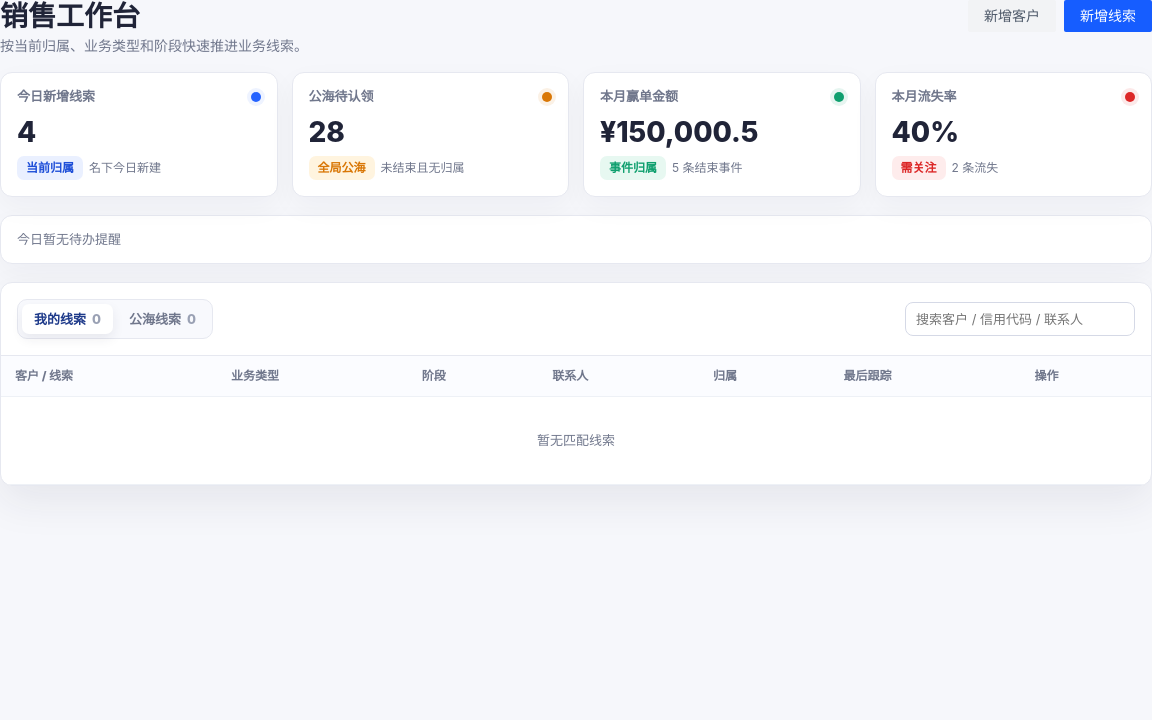
Test: refine lead list iteration › 新增线索入口打开统一新建线索弹窗
The image size is (1152, 720).
Click the button "新增线索": (1108, 16) [1064,0,1151,32]
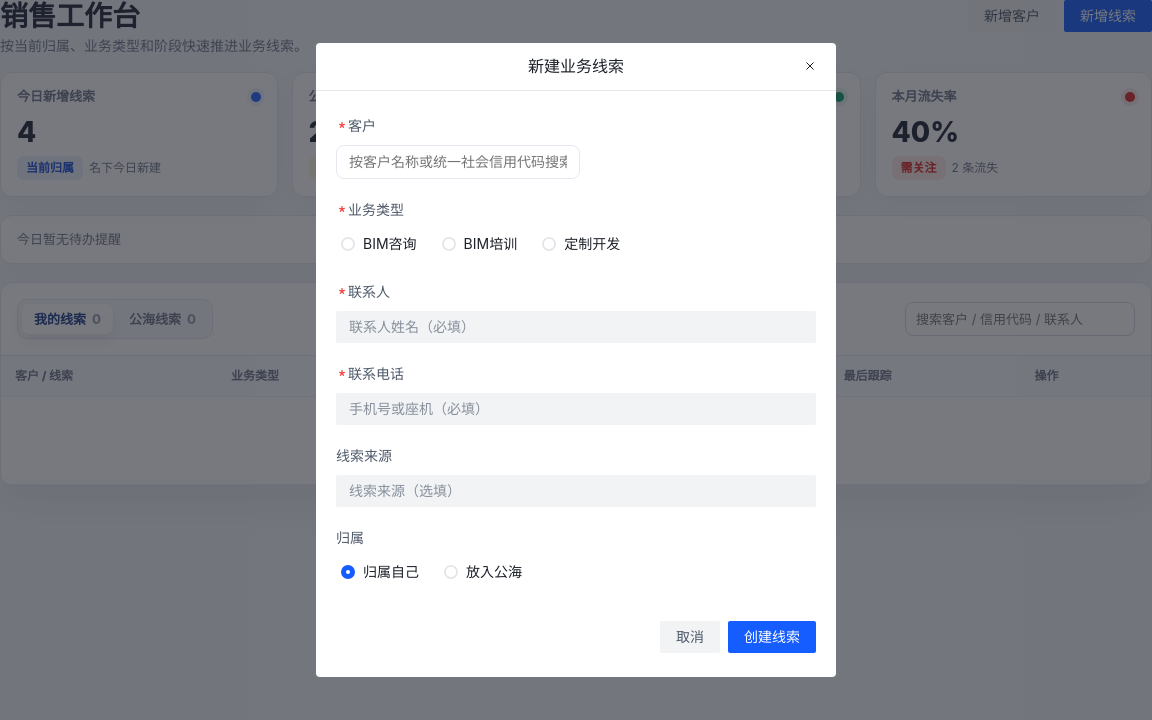
Now the element with test id "create-lead-modal" is shown
